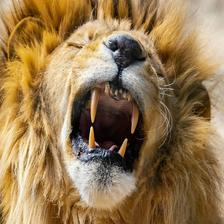Lion: (0, 0, 208, 213)
